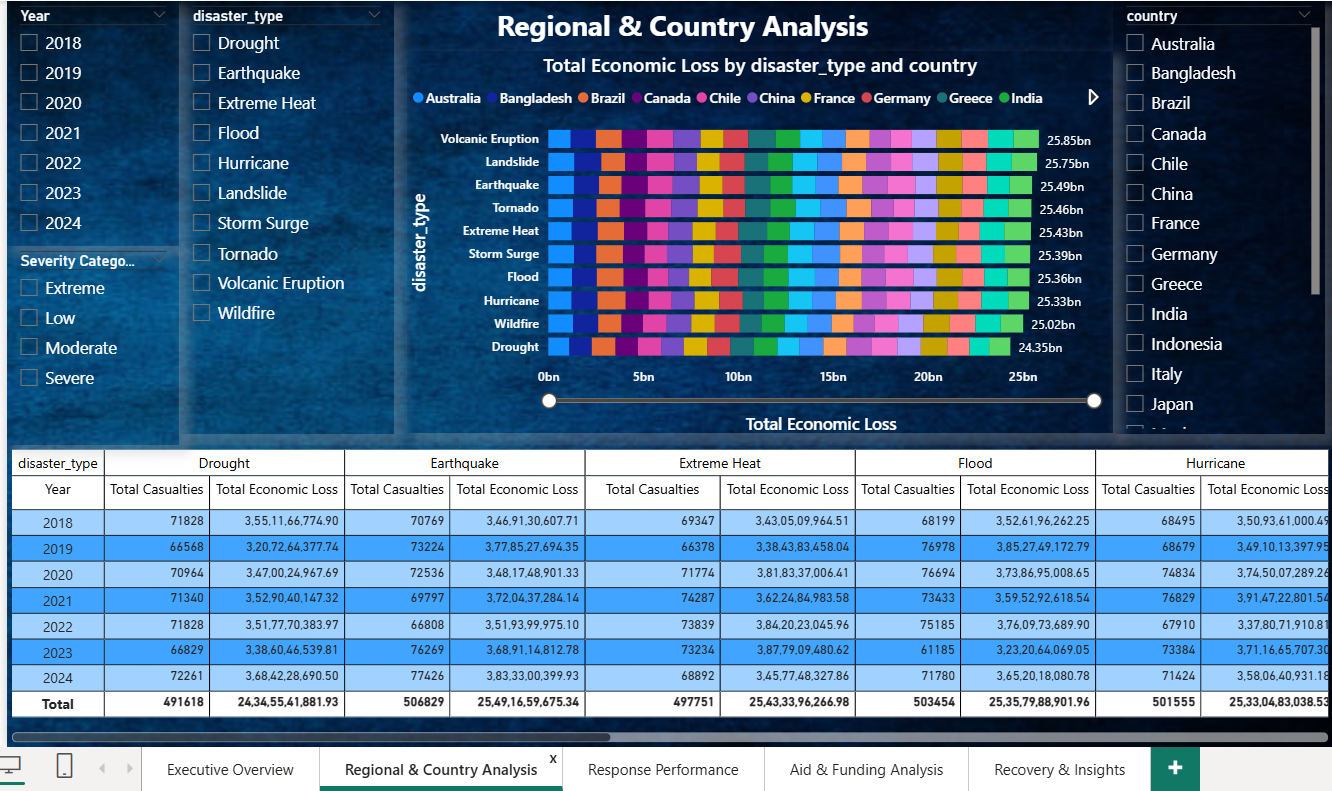

Layout of this report page (visuals, bound fields, positions):
{"tool":"powerbi","page":{"name":"Regional & Country Analysis","canvas":[1280,720],"ordinal":1},"visuals":[{"type":"barChart","fields":{"Category":["global_disaster_response_2018_2024.disaster_type"],"Series":["global_disaster_response_2018_2024.country"],"Y":["global_disaster_response_2018_2024.Total Economic Loss"]},"box":[386.1,48.3,681.6,369.2],"z":0},{"type":"pivotTable","fields":{"Rows":["DateTable.Year"],"Columns":["global_disaster_response_2018_2024.disaster_type"],"Values":["global_disaster_response_2018_2024.Total Casualties","global_disaster_response_2018_2024.Total Economic Loss"]},"box":[0,428.3,1280,292],"z":1000},{"type":"textbox","box":[431.7,0,440.2,47.7],"z":2000},{"type":"slicer","fields":{"Values":["DateTable.Year"]},"box":[0,0,166.5,236.5],"z":3000},{"type":"slicer","fields":{"Values":["global_disaster_response_2018_2024.country"]},"box":[1067.7,0,203.9,417.4],"z":4000},{"type":"slicer","fields":{"Values":["global_disaster_response_2018_2024.disaster_type"]},"box":[166.5,0,207.5,417.4],"z":5000},{"type":"slicer","fields":{"Values":["global_disaster_response_2018_2024.Severity Category"]},"box":[0,236.5,166.5,191.8],"z":6000}]}

Visuals, with their boxes on the page's 1280x720 design canvas (x1, y1, x2, y2). These are canvas units, not pixel positions in the 1332x791 screenshot, which may show the page scaled, cropped or inside an application window:
barChart - global_disaster_response_2018_2024.disaster_type x global_disaster_response_2018_2024.country: [left=386, top=48, right=1068, bottom=418]
pivotTable - DateTable.Year x global_disaster_response_2018_2024.disaster_type: [left=0, top=428, right=1280, bottom=720]
textbox: [left=432, top=0, right=872, bottom=48]
slicer - DateTable.Year: [left=0, top=0, right=166, bottom=236]
slicer - global_disaster_response_2018_2024.country: [left=1068, top=0, right=1272, bottom=417]
slicer - global_disaster_response_2018_2024.disaster_type: [left=166, top=0, right=374, bottom=417]
slicer - global_disaster_response_2018_2024.Severity Category: [left=0, top=236, right=166, bottom=428]
